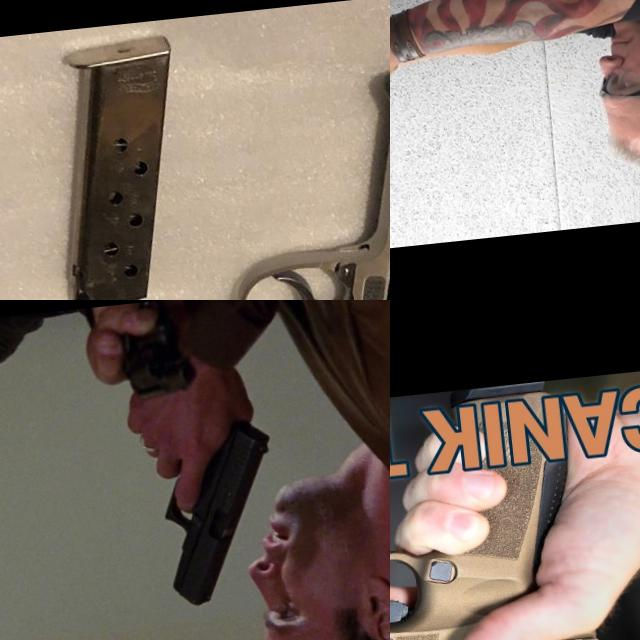handgun: (92, 49, 390, 300), (390, 458, 614, 640), (150, 412, 286, 610), (390, 54, 453, 117)
